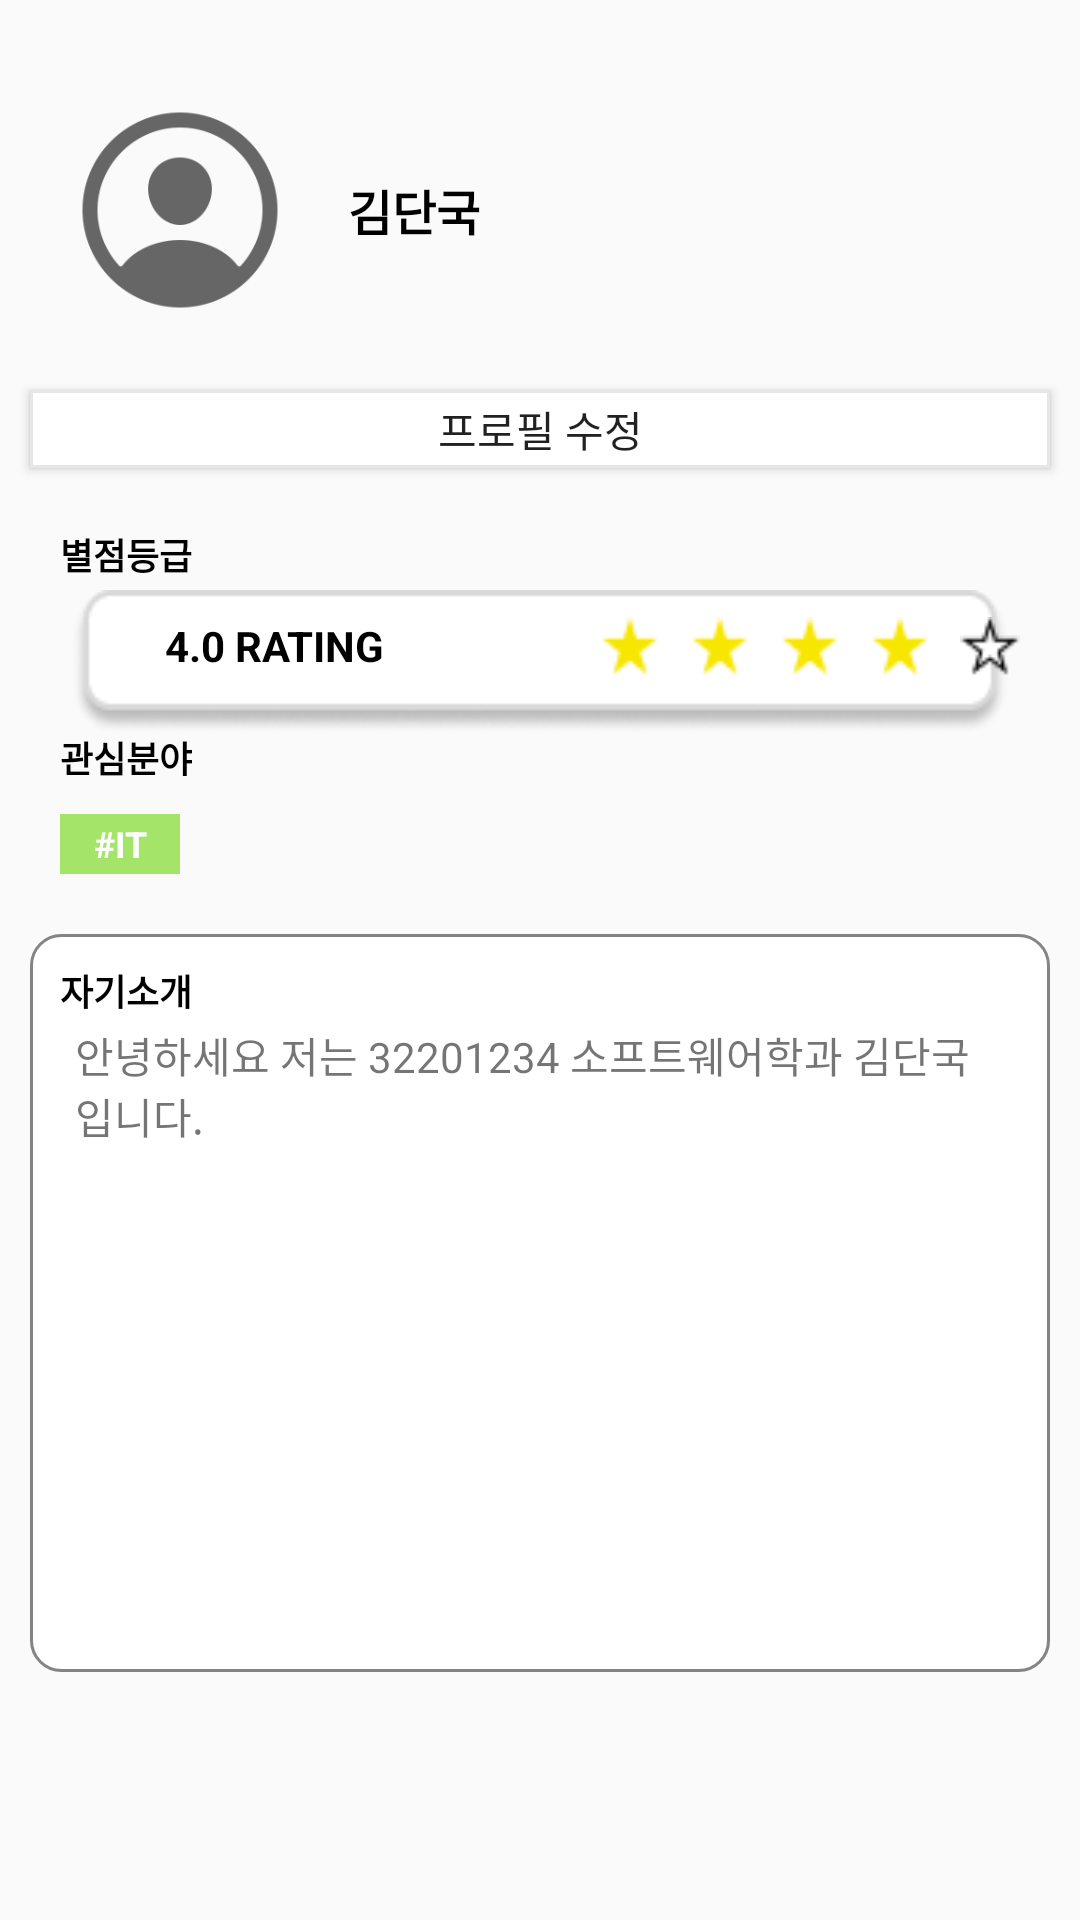

Where to tap for icons on this 1080px×1920px app screen, as (x=x, y=y):
person circle: (x=180, y=210)
star: (x=629, y=646), (x=719, y=646), (x=809, y=646), (x=899, y=646), (x=989, y=647)
